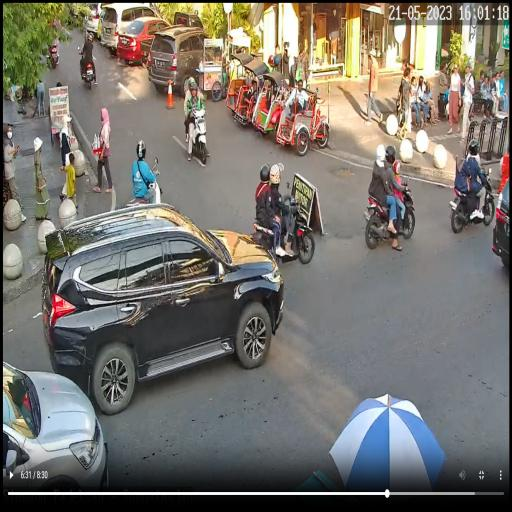mobil: (42, 205, 284, 411), (148, 22, 212, 95), (99, 0, 160, 60), (118, 18, 171, 71)
motor: (252, 194, 314, 270), (363, 171, 416, 250), (445, 170, 495, 234), (182, 100, 210, 166), (77, 47, 96, 94)
